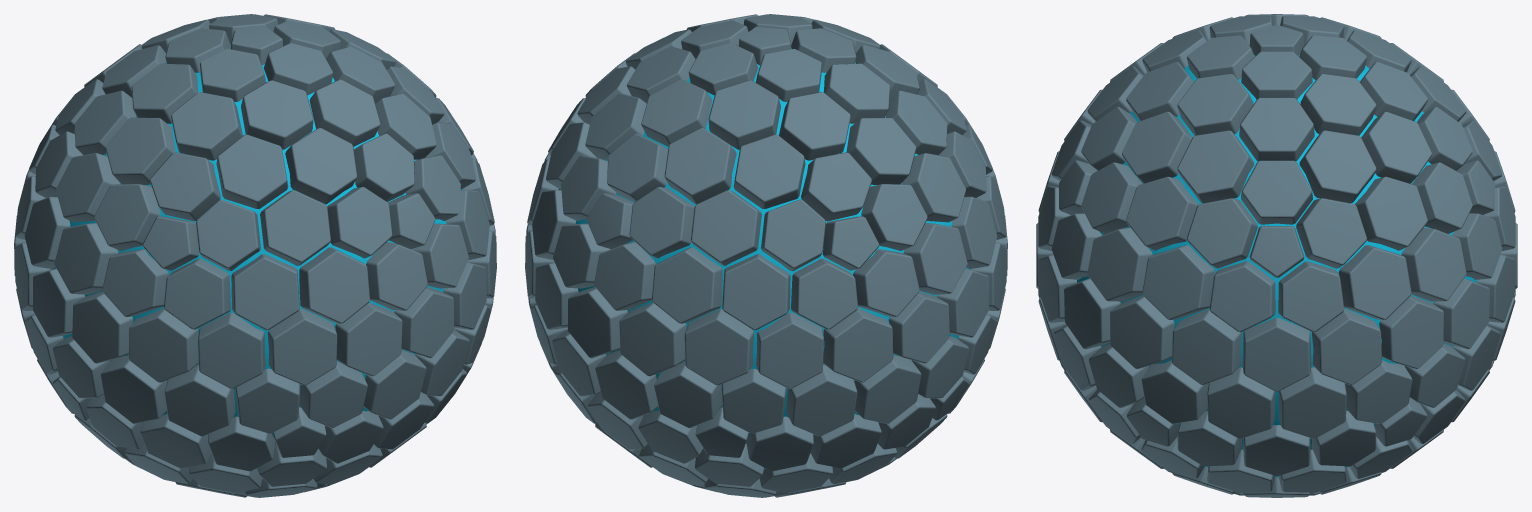
File: Shere_001.fbx
3 renders of one model, left to right at view 1: azimuth 30°, elevation 25°; view 2: azimuth 150°, elevation 25°; view 3: azimuth 270°, elevation 25°, orthographic.
Parts seen in each view (by area): view 1: Shere_001; view 2: Shere_001; view 3: Shere_001.
Part boxes in pixels (left/top/right/bottom): Shere_001: left=14, top=14, right=496, bottom=497; Shere_001: left=525, top=14, right=1007, bottom=497; Shere_001: left=1036, top=14, right=1517, bottom=497.
Bounding box in the file's own units: 3522 × 3515 × 3550.
